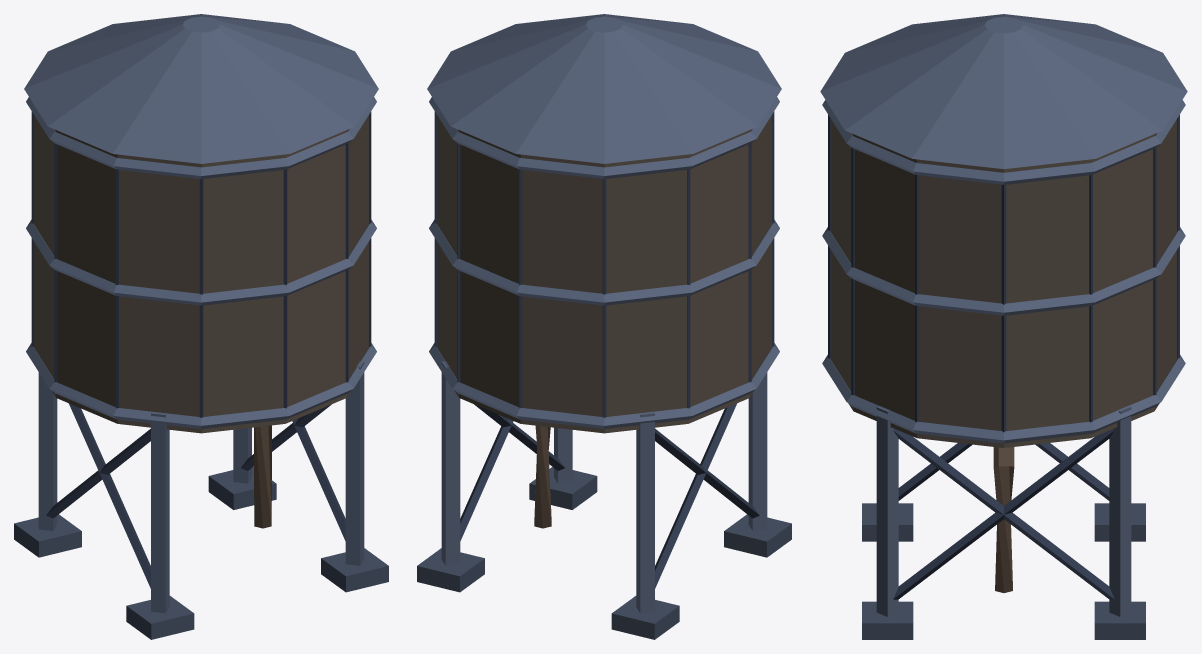
Rendered from city_roof_water_tank.glb.
The picture shows the model from 3 angles, left to right: view 1: azimuth 30°, elevation 25°; view 2: azimuth 150°, elevation 25°; view 3: azimuth 270°, elevation 25°; orthographic projection. The views are drawn at different scales.
Visible parts, largest first — view 1: wood_tank, conical_roof, steel_hoop.001, steel_hoop, steel_hoop.002, leg.001, leg.003, leg, foot.001, foot.003, foot, outlet (+13 smaller); view 2: wood_tank, conical_roof, steel_hoop.001, steel_hoop, steel_hoop.002, leg, leg.002, leg.001, foot, foot.002, foot.001, cross_brace (+13 smaller); view 3: wood_tank, conical_roof, steel_hoop.001, steel_hoop, steel_hoop.002, leg.002, leg.003, cross_brace.002, cross_brace.003, outlet, foot.002, foot.003 (+11 smaller).
Boxes of the visible parts, x1,y1,x2,y2 form: wood_tank: [34, 115, 368, 433]; conical_roof: [24, 14, 378, 163]; steel_hoop.001: [26, 219, 376, 305]; steel_hoop: [26, 343, 376, 428]; steel_hoop.002: [26, 97, 376, 178]; leg.001: [151, 412, 169, 613]; leg.003: [345, 361, 364, 565]; leg: [38, 372, 57, 530]; foot.001: [126, 596, 194, 639]; foot.003: [321, 548, 388, 592]; foot: [14, 514, 81, 557]; outlet: [254, 425, 271, 528]; wood_tank: [437, 115, 771, 433]; conical_roof: [427, 14, 781, 163]; steel_hoop.001: [429, 219, 779, 305]; steel_hoop: [429, 343, 779, 428]; steel_hoop.002: [429, 97, 779, 178]; leg: [636, 412, 654, 613]; leg.002: [441, 361, 460, 565]; leg.001: [748, 372, 767, 530]; foot: [611, 596, 679, 639]; foot.002: [417, 548, 484, 592]; foot.001: [724, 514, 791, 557]; cross_brace: [655, 403, 736, 588]; wood_tank: [830, 119, 1177, 447]; conical_roof: [820, 14, 1187, 169]; steel_hoop.001: [822, 227, 1185, 315]; steel_hoop: [822, 355, 1185, 443]; steel_hoop.002: [822, 100, 1185, 184]; leg.002: [1109, 406, 1131, 616]; leg.003: [876, 406, 898, 616]; cross_brace.002: [893, 429, 1114, 599]; cross_brace.003: [893, 429, 1114, 599]; outlet: [993, 447, 1014, 592]; foot.002: [1094, 601, 1145, 639]; foot.003: [862, 601, 913, 639].
Bounding box in the file's own units: 3 × 5 × 3.
